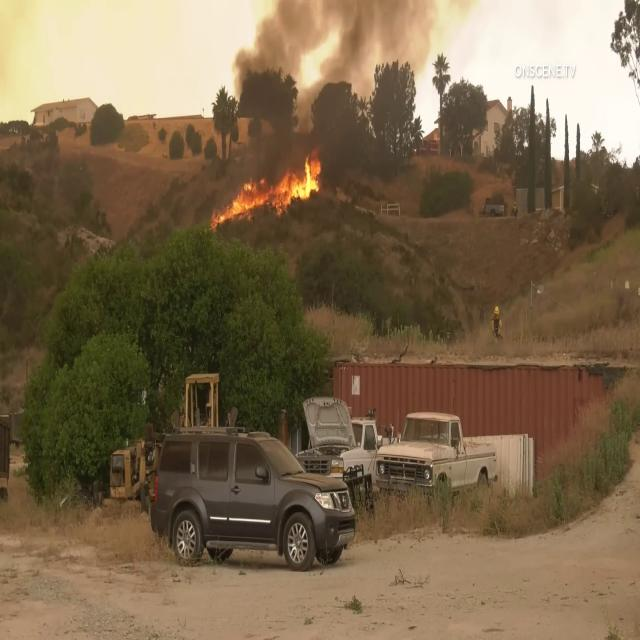fire: (208, 150, 328, 229)
smoke: (278, 0, 426, 57)
